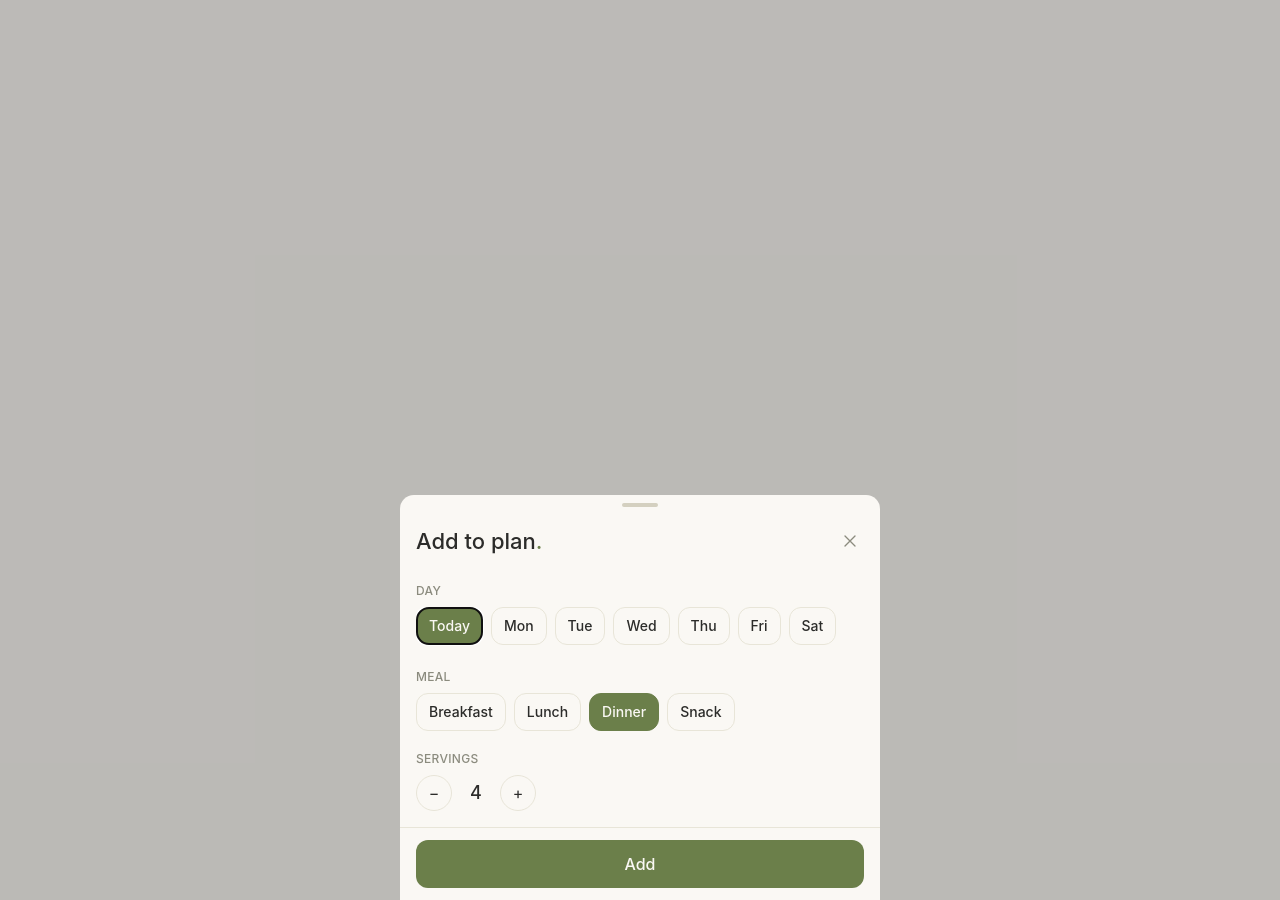
Test case: AddToPlanSheet › increments servings when + button is clicked
The width and height of the screenshot is (1280, 900).
Click the button named "increase servings": (518, 793) x1=500 y1=775 x2=536 y2=811
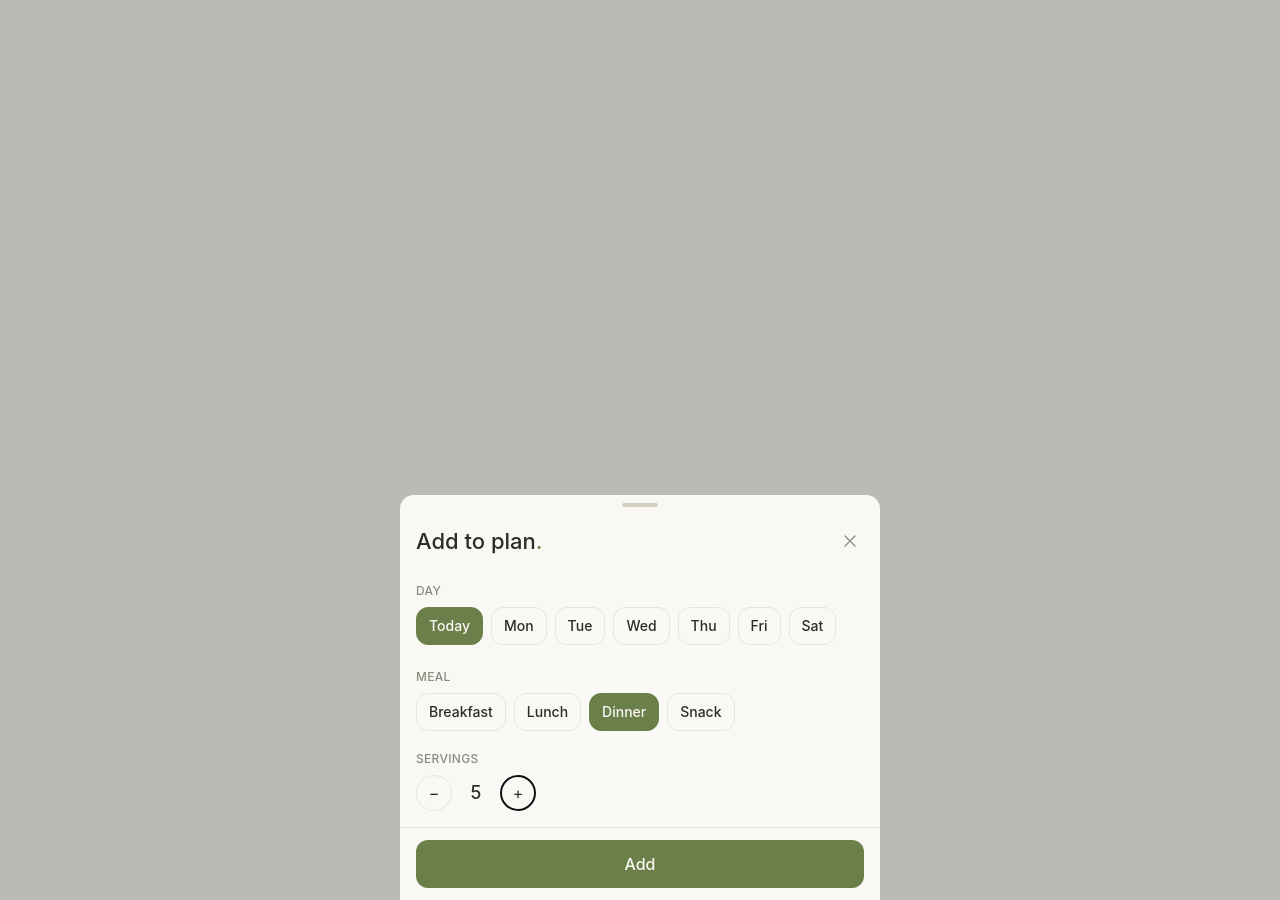
Check: the text "5" is shown, box x1=471 y1=782 x2=482 y2=803
